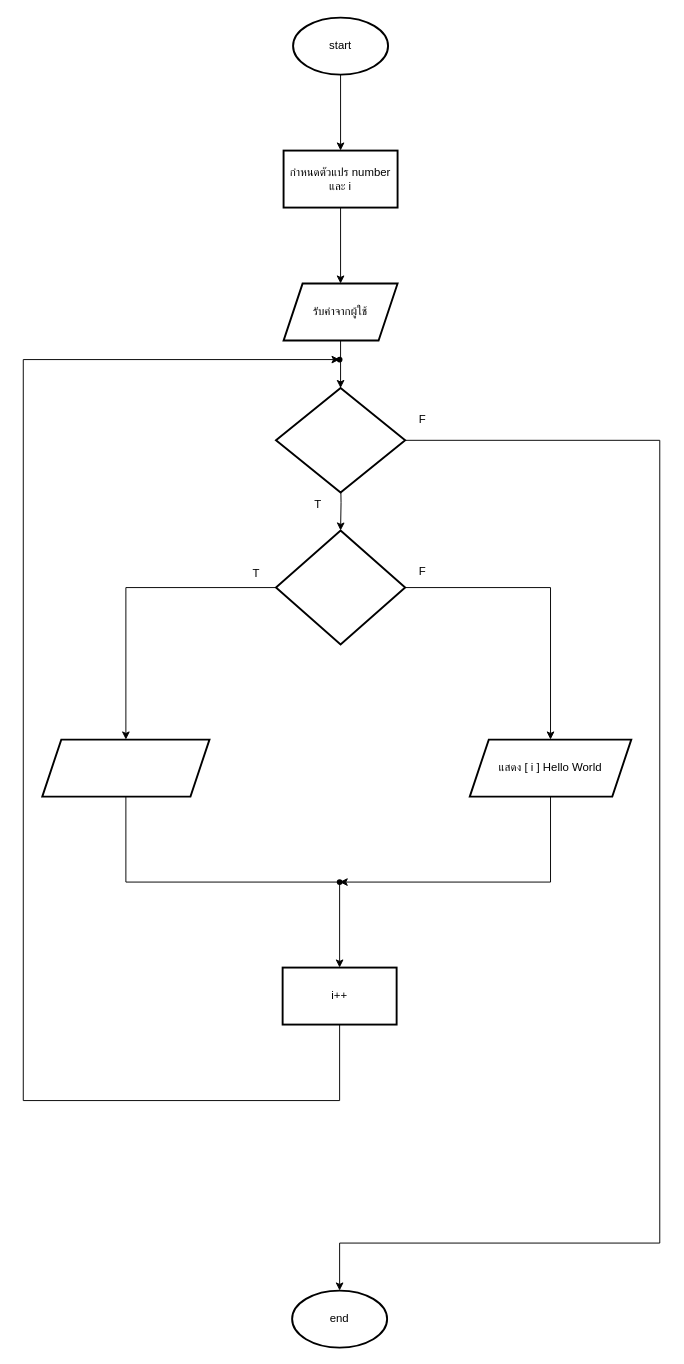
Some shapes in this 684 by 1364 pixel diagram are drawn without their labels. The centre of each missing label's shape, as x and y in pixels:
i <= number ?: the point at 340,440
number % 2 = 0 ?: the point at 340,587
แสดง ( i ) Hello World: the point at 125,767
